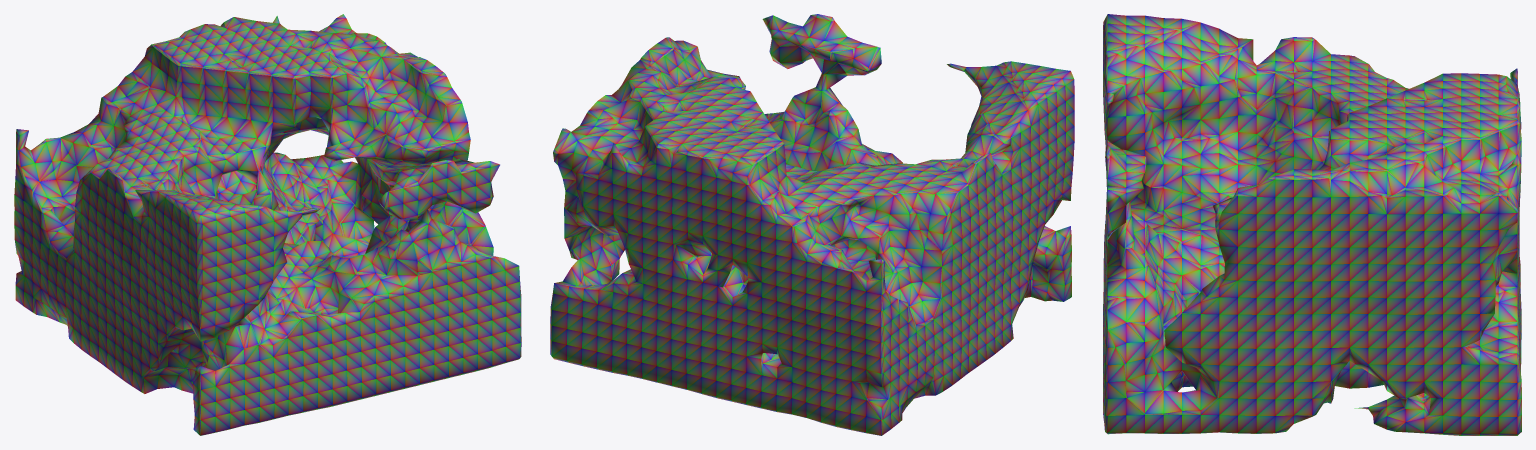
Rendered from TestTerrain_URP Triplanar.fbx.
3 renders of one model, left to right at view 1: azimuth 30°, elevation 25°; view 2: azimuth 150°, elevation 25°; view 3: azimuth 270°, elevation 25°, orthographic. The views are drawn at different scales.
Parts seen in each view (by area): view 1: TestTerrain_URP_Triplanar; view 2: TestTerrain_URP_Triplanar; view 3: TestTerrain_URP_Triplanar.
Boxes of the visible parts, bbox=[...] form: TestTerrain_URP_Triplanar: bbox=[14, 14, 521, 435]; TestTerrain_URP_Triplanar: bbox=[550, 14, 1074, 435]; TestTerrain_URP_Triplanar: bbox=[1103, 14, 1521, 435].
Size of the model in its own units: 96000 by 65900 by 96000.
